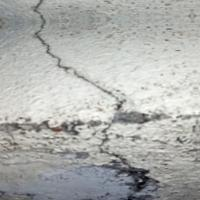crack: (25, 0, 113, 117)
